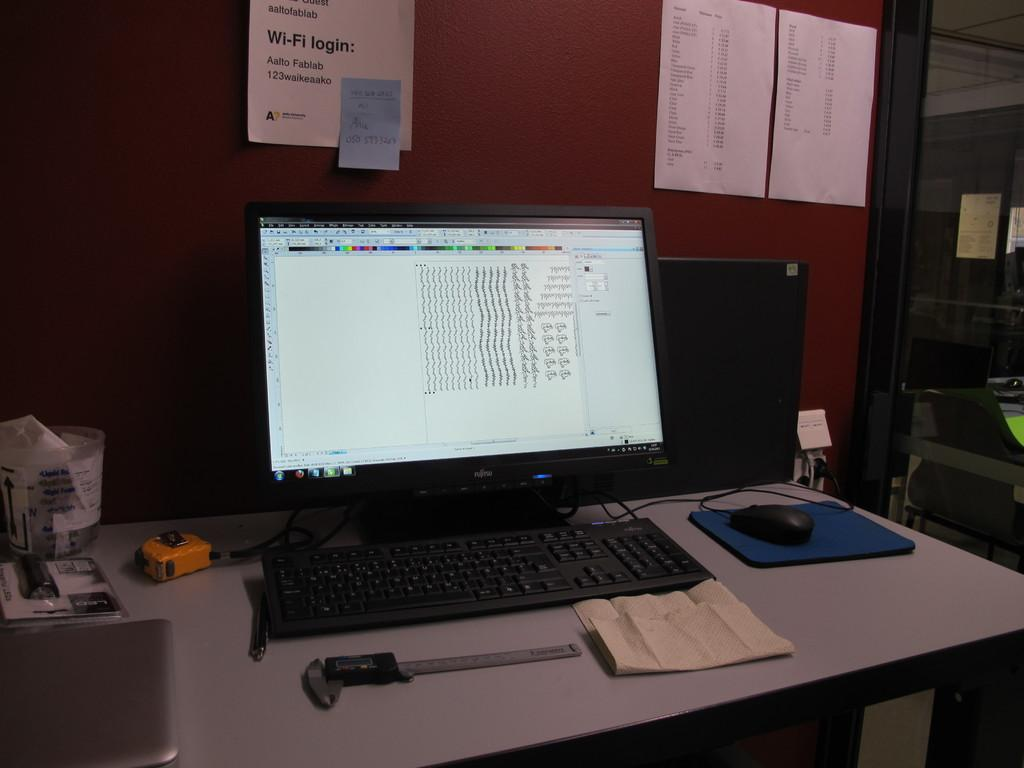Computer-keyboard: (262, 518, 717, 634)
Computer-monitor: (234, 198, 685, 566), (477, 265, 808, 509)
Laptop: (0, 620, 181, 767)
